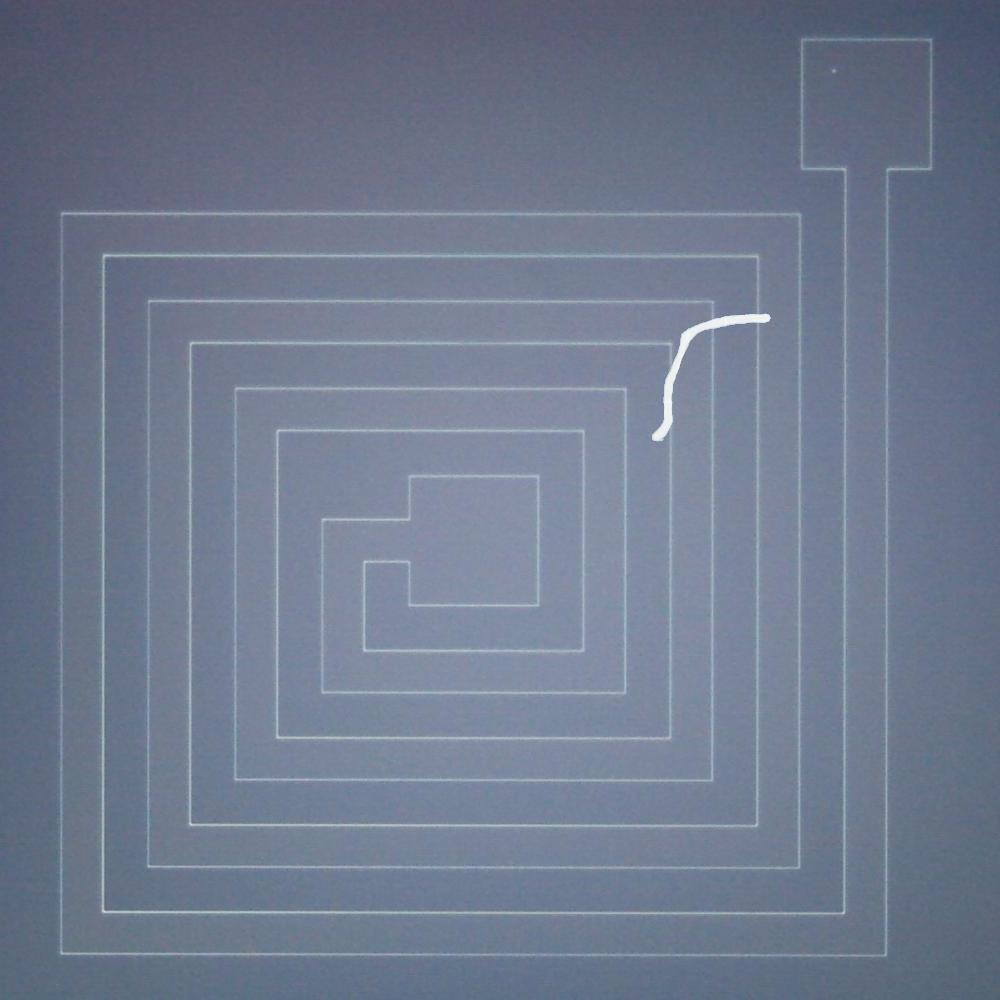line: (646, 303, 782, 450)
